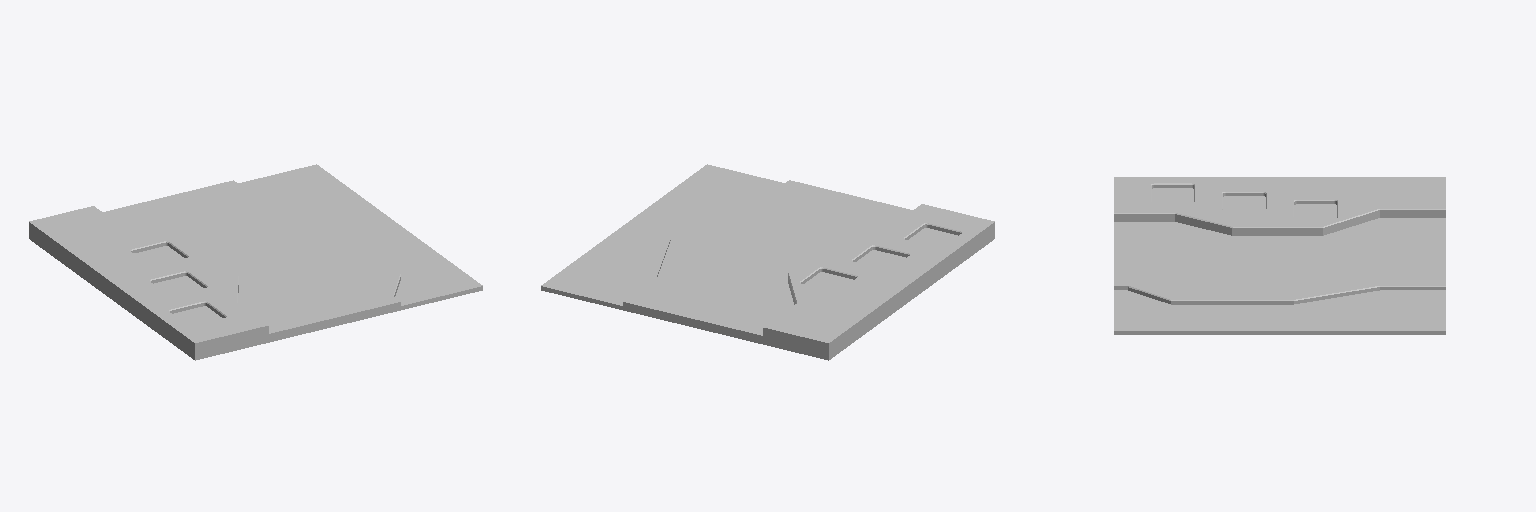
File: floortileUV.obj
3 views of the same model, side by side, from view 1: azimuth 30°, elevation 25°; view 2: azimuth 150°, elevation 25°; view 3: azimuth 270°, elevation 25° (orthographic).
Parts seen in each view (by area): view 1: object1; view 2: object1; view 3: object1.
Part boxes in pixels (x1,y1,x2,y2): object1: (29,164,482,360); object1: (541,164,994,360); object1: (1114,177,1445,334).
Bounding box in the file's own units: 35 × 2 × 35.